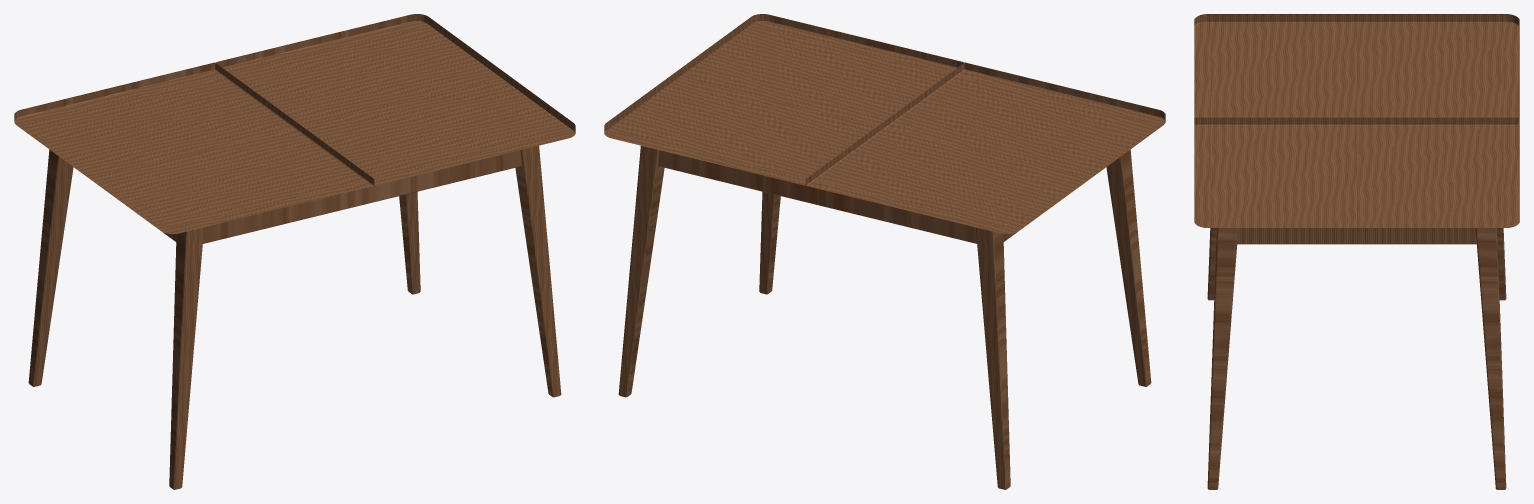
3 views of the same model, side by side, from view 1: azimuth 30°, elevation 25°; view 2: azimuth 150°, elevation 25°; view 3: azimuth 270°, elevation 25° (orthographic). The views are drawn at different scales.
Parts seen in each view (by area): view 1: Tabletop left, Tabletop right, Apron 0.326, Tapered leg -1 1, Tapered leg 1 1, Tapered leg -1 -1, Tapered leg 1 -1; view 2: Tabletop left, Tabletop right, Apron -0.326, Tapered leg -1 -1, Tapered leg 1 -1, Tapered leg -1 1, Tapered leg 1 1, End apron 0.497; view 3: Tabletop right, Tabletop left, End apron 0.497, Tapered leg 1 1, Tapered leg 1 -1, Tapered leg -1 -1, Tapered leg -1 1, End apron -0.497.
Part boxes in pixels (x1=…): Tabletop left: x1=14, y1=62, x2=374, y2=233; Tabletop right: x1=216, y1=14, x2=575, y2=185; Apron 0.326: x1=203, y1=150, x2=521, y2=243; Tapered leg -1 1: x1=169, y1=227, x2=204, y2=489; Tapered leg 1 1: x1=515, y1=145, x2=561, y2=396; Tapered leg -1 -1: x1=28, y1=149, x2=73, y2=386; Tapered leg 1 -1: x1=399, y1=191, x2=420, y2=293; Tabletop left: x1=805, y1=62, x2=1165, y2=233; Tabletop right: x1=604, y1=14, x2=963, y2=185; Apron -0.326: x1=658, y1=150, x2=976, y2=243; Tapered leg -1 -1: x1=975, y1=227, x2=1010, y2=489; Tapered leg 1 -1: x1=618, y1=145, x2=664, y2=396; Tapered leg -1 1: x1=1106, y1=149, x2=1151, y2=386; Tapered leg 1 1: x1=759, y1=191, x2=780, y2=293; End apron 0.497: x1=647, y1=39, x2=778, y2=133; Tabletop right: x1=1194, y1=117, x2=1519, y2=227; Tabletop left: x1=1194, y1=14, x2=1519, y2=117; End apron 0.497: x1=1226, y1=209, x2=1488, y2=244; Tapered leg 1 1: x1=1207, y1=228, x2=1238, y2=489; Tapered leg 1 -1: x1=1475, y1=228, x2=1506, y2=489; Tapered leg -1 -1: x1=1497, y1=228, x2=1506, y2=299; Tapered leg -1 1: x1=1207, y1=228, x2=1216, y2=299; End apron -0.497: x1=1225, y1=38, x2=1488, y2=41.
Bounding box in the file's own units: 1.2 × 0.7493 × 0.8001.
Materials: 4 (1 with a texture image).
